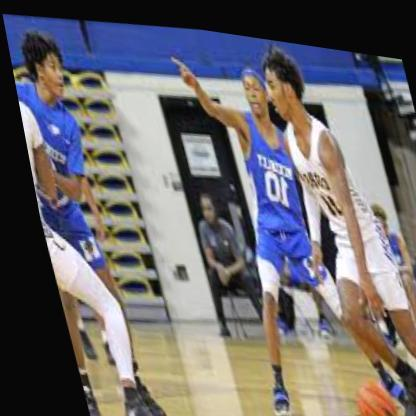basketball: (339, 370, 391, 416)
